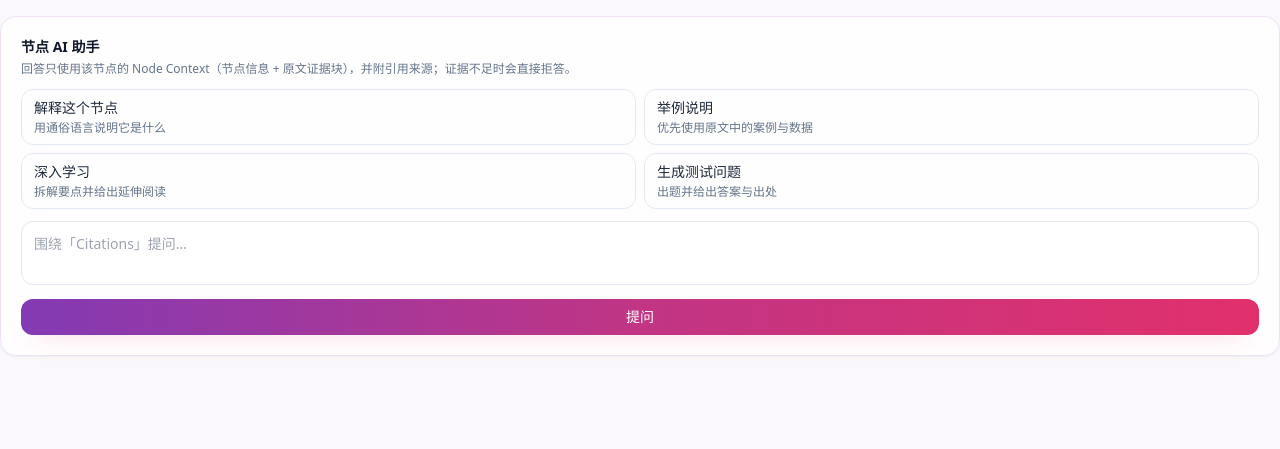
Test: KnowledgeNodeQa (Node AI Assistant) › renders a refusal without citations when evidence is insufficient
Step 1. Click the button "解释这个节点 用通俗语言说明它是什么" → {"x": 76, "y": 108}, box x1=21 y1=89 x2=636 y2=145
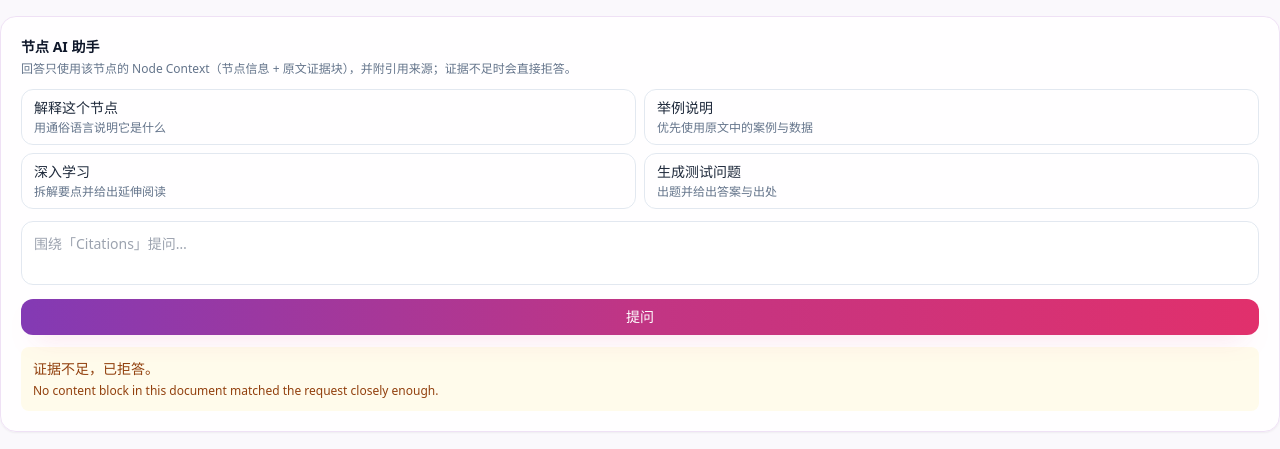
Check: the message shows "证据不足", box x1=33 y1=359 x2=159 y2=378
